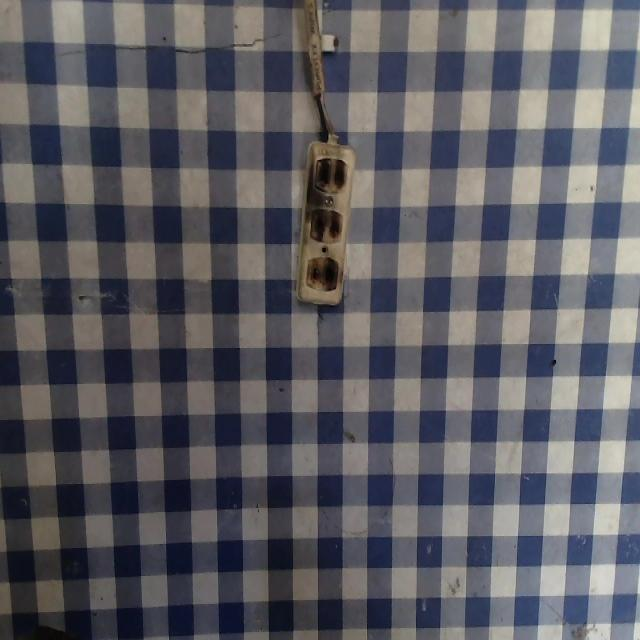-: (309, 149, 352, 196), (306, 202, 347, 246), (304, 255, 345, 293)
